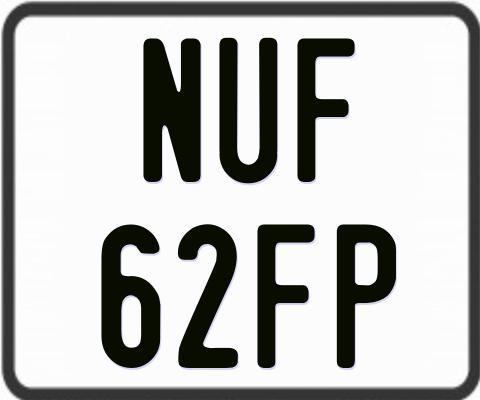2: (177, 224, 238, 370)
6: (101, 224, 161, 367)
F: (257, 222, 321, 370), (294, 35, 354, 184)
N: (142, 35, 200, 180)
P: (336, 223, 399, 371)
U: (219, 38, 279, 184)
